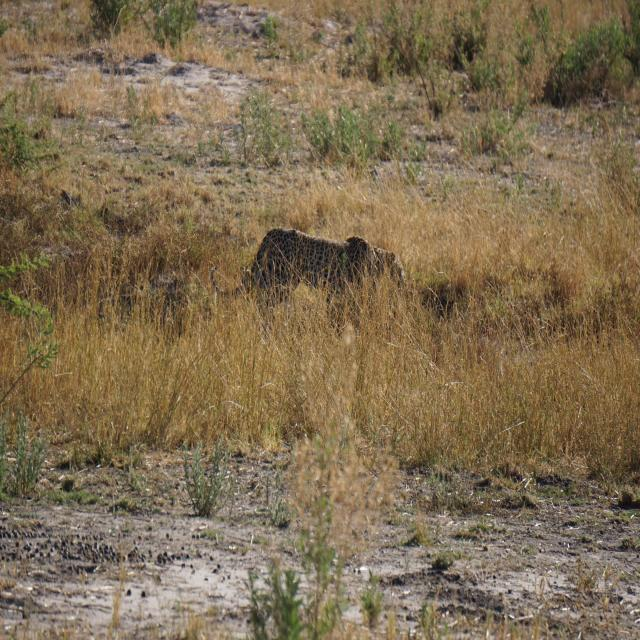Leopard: (239, 224, 389, 310)
